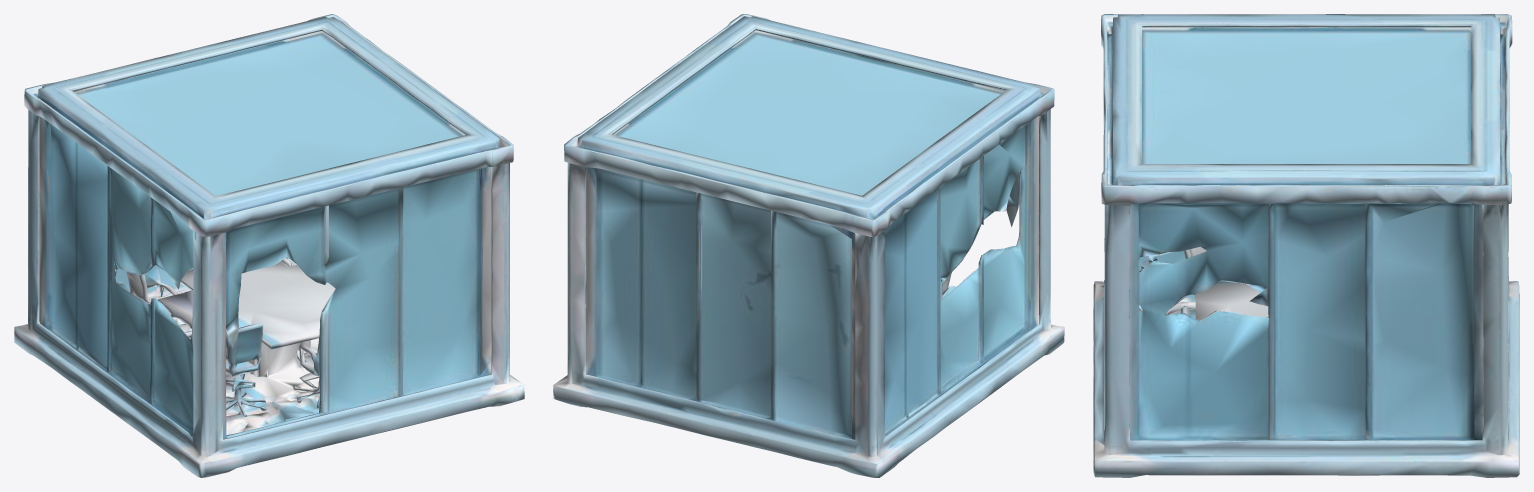
The model's file is special1.glb.
3 views of the same model, side by side, from view 1: azimuth 30°, elevation 25°; view 2: azimuth 150°, elevation 25°; view 3: azimuth 270°, elevation 25° (orthographic). The views are drawn at different scales.
Visible parts, largest first — view 1: Mesh_0; view 2: Mesh_0; view 3: Mesh_0.
Part boxes in pixels (x1,y1,x2,y2): Mesh_0: (14, 14, 524, 477); Mesh_0: (553, 14, 1064, 477); Mesh_0: (1093, 14, 1519, 477).
Size of the model in its own units: 1.91 by 1.46 by 1.91.
1 material, 1 textured.
